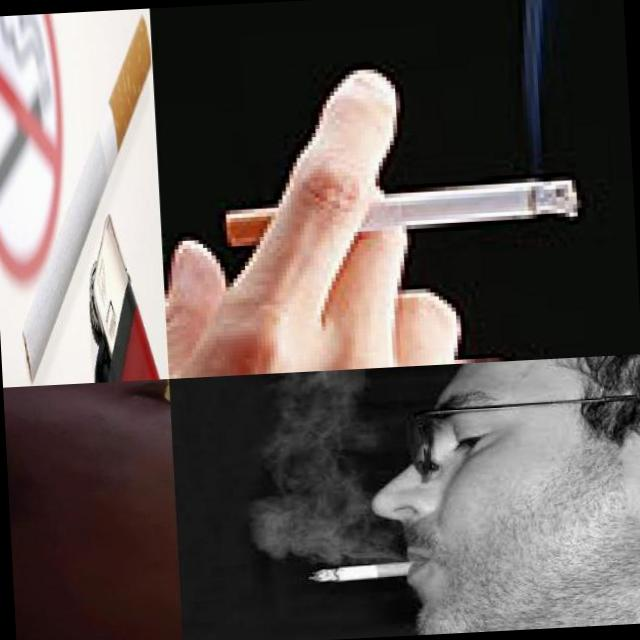cigarette: (7, 17, 168, 385), (223, 178, 579, 248), (308, 560, 428, 584)
